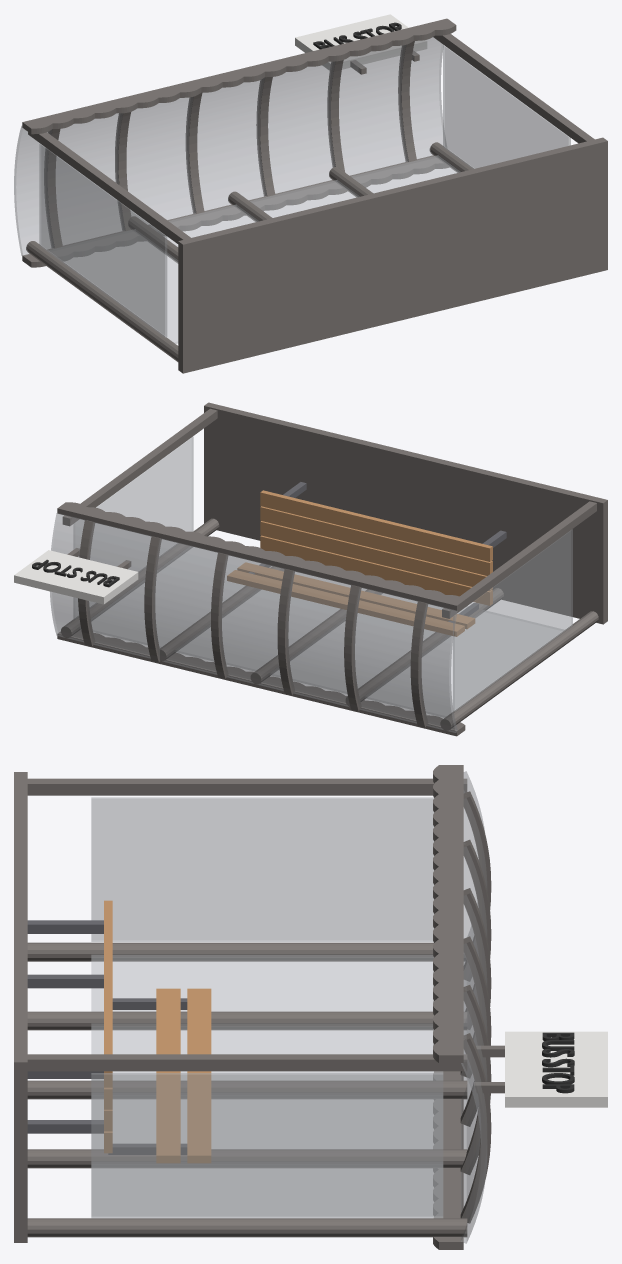
File: 34-bus-stop-shelter-bs8.glb
The picture shows the model from 3 angles, top to bottom: view 1: azimuth 30°, elevation 25°; view 2: azimuth 150°, elevation 25°; view 3: azimuth 270°, elevation 25°; orthographic projection. The views are drawn at different scales.
Visible parts, largest first — view 1: Base, Vault, EndGlass_L, RearGlass, EndGlass_R, TrimFront, TrimBack, RearPost_0, FrontPost_0, FrontPost_1, Blade, Rib_3 (+10 smaller); view 2: Vault, Base, RearGlass, EndGlass_L, EndGlass_R, TrimFront, TrimBack, SeatSlat_3, SeatSlat_2, Blade, SeatSlat_1, SeatSlat_0 (+16 smaller); view 3: RearGlass, EndGlass_R, EndGlass_L, TrimFront, RearPost_4, RearPost_0, Vault, FrontPost_1, RearPost_2, FrontPost_0, RearPost_3, RearPost_1 (+17 smaller).
Boxes of the visible parts, x1,y1,x2,y2 form: Base: [178, 137, 607, 373]; Vault: [14, 37, 447, 255]; EndGlass_L: [39, 143, 167, 337]; RearGlass: [48, 155, 460, 343]; EndGlass_R: [443, 45, 570, 168]; TrimFront: [22, 18, 456, 134]; TrimBack: [22, 155, 449, 267]; RearPost_0: [26, 241, 178, 361]; FrontPost_0: [28, 132, 190, 243]; FrontPost_1: [433, 34, 594, 143]; Blade: [295, 14, 427, 70]; Rib_3: [256, 77, 275, 196]; Vault: [50, 513, 457, 732]; Base: [204, 402, 607, 624]; RearGlass: [80, 546, 563, 717]; EndGlass_L: [453, 529, 572, 711]; EndGlass_R: [73, 437, 193, 618]; TrimFront: [57, 502, 465, 610]; TrimBack: [57, 630, 465, 736]; SeatSlat_3: [260, 490, 492, 561]; SeatSlat_2: [260, 506, 492, 575]; Blade: [14, 550, 138, 604]; SeatSlat_1: [260, 521, 492, 590]; SeatSlat_0: [260, 535, 492, 605]; RearGlass: [91, 954, 443, 1218]; EndGlass_R: [91, 1073, 443, 1217]; EndGlass_L: [91, 797, 433, 941]; TrimFront: [433, 765, 463, 1062]; RearPost_4: [27, 1218, 467, 1237]; RearPost_0: [27, 942, 465, 961]; Vault: [461, 771, 487, 1243]; FrontPost_1: [27, 1054, 467, 1071]; RearPost_2: [27, 1080, 467, 1099]; FrontPost_0: [27, 778, 467, 795]; RearPost_3: [27, 1149, 467, 1168]; RearPost_1: [27, 1011, 467, 1030].
Bounding box in the file's own units: 4 × 1.25 × 3.46.
